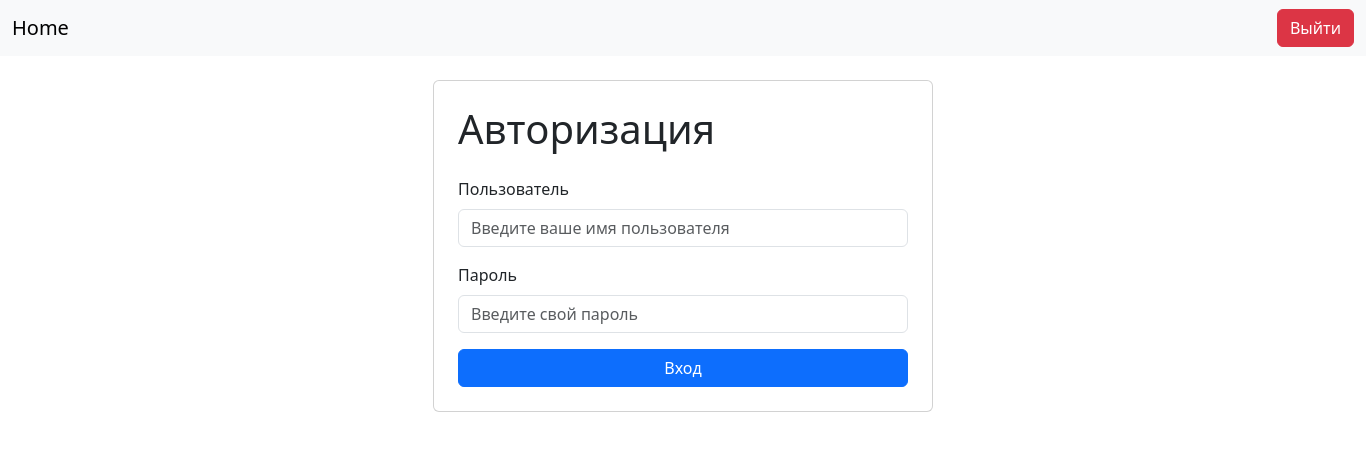
Test: LoginView › должен отображать сообщение об ошибке при пустом пароле
Type "validuser" into the field with id "username" at [683, 228], box [458,209,908,247]
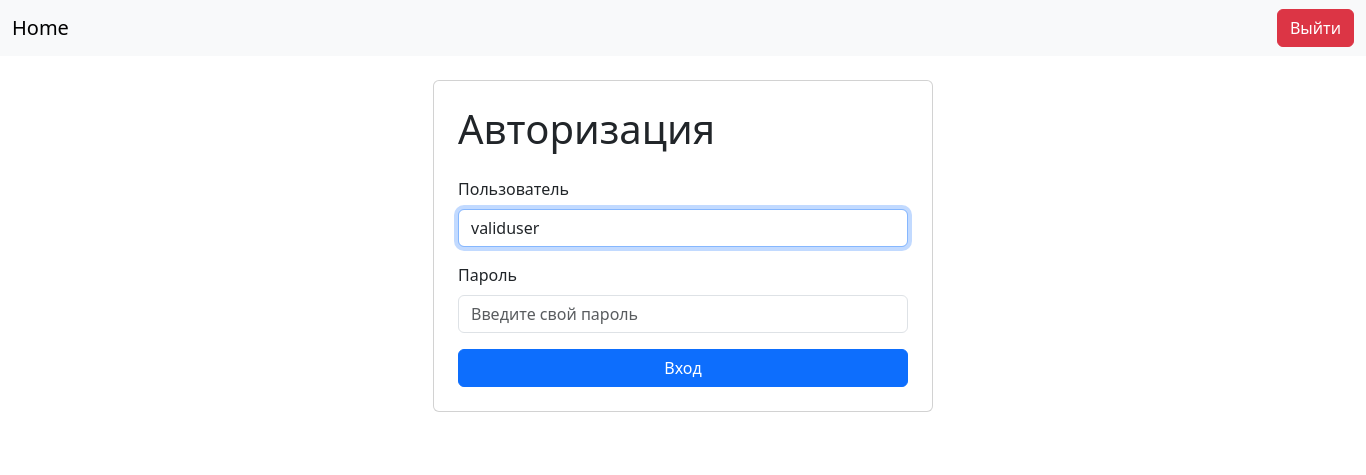
Type "a" into the password field labelled "Пароль" at [683, 314], box [458,295,908,333]
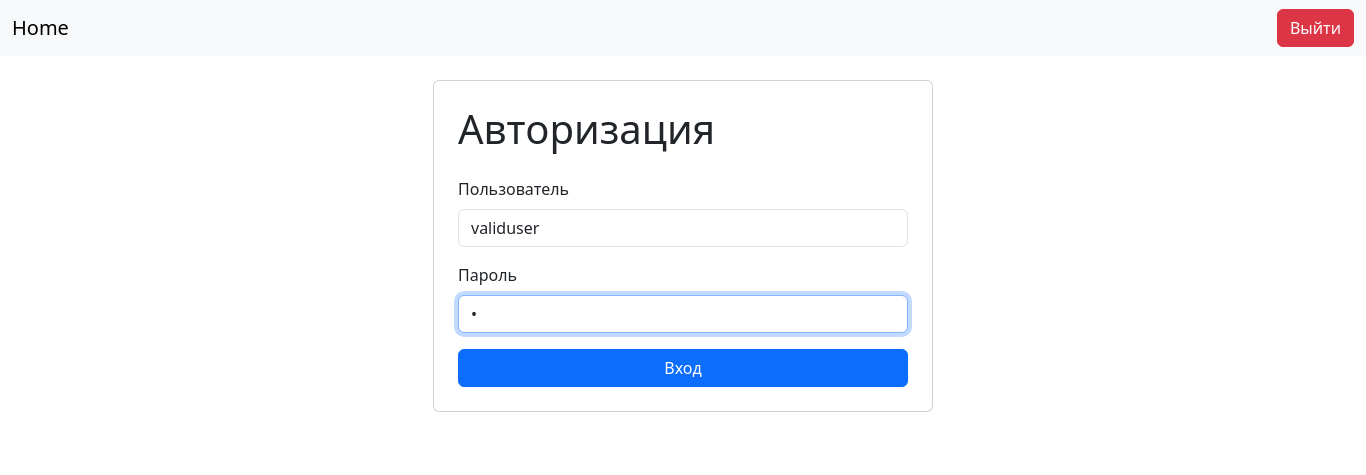
Clear the password field labelled "Пароль" at [683, 314], box [458,295,908,333]
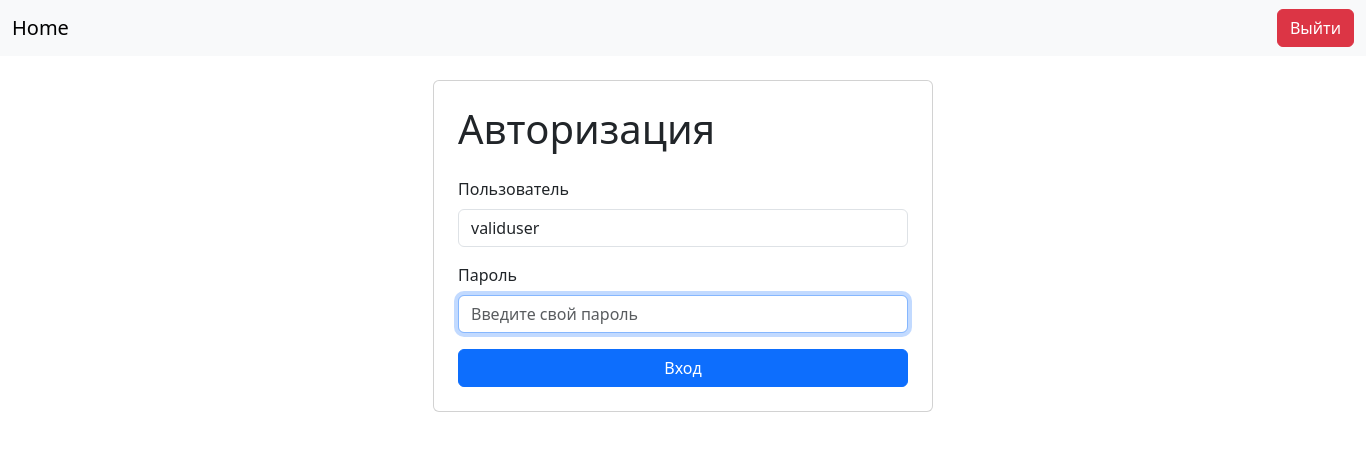
Click the button "Вход" at [683, 368], box [458,349,908,387]
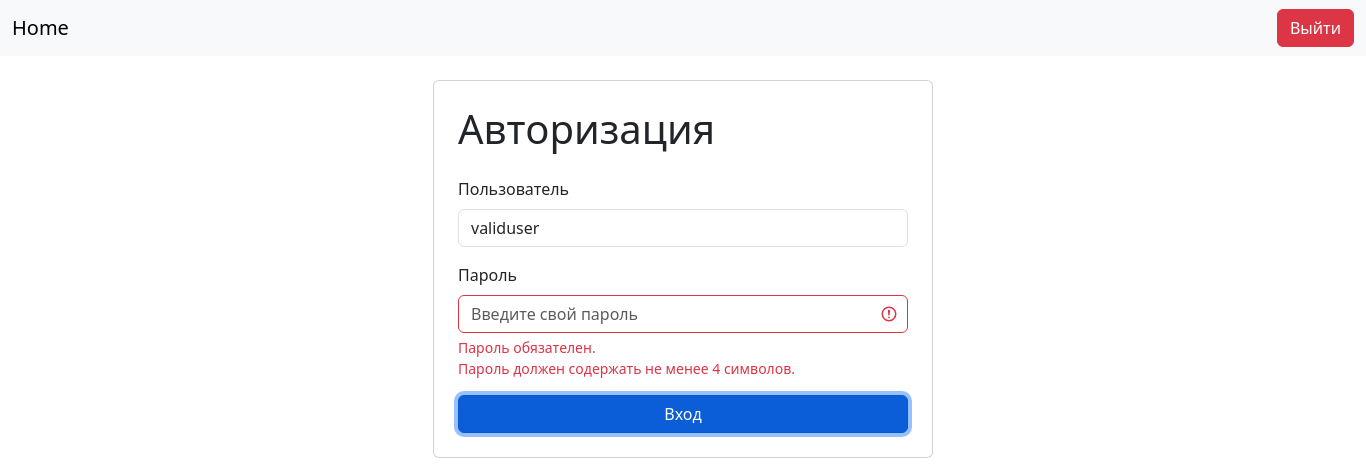
Expected: the element with class "invalid-feedback" shows "Пароль обязателен.", [458,338,795,378]
